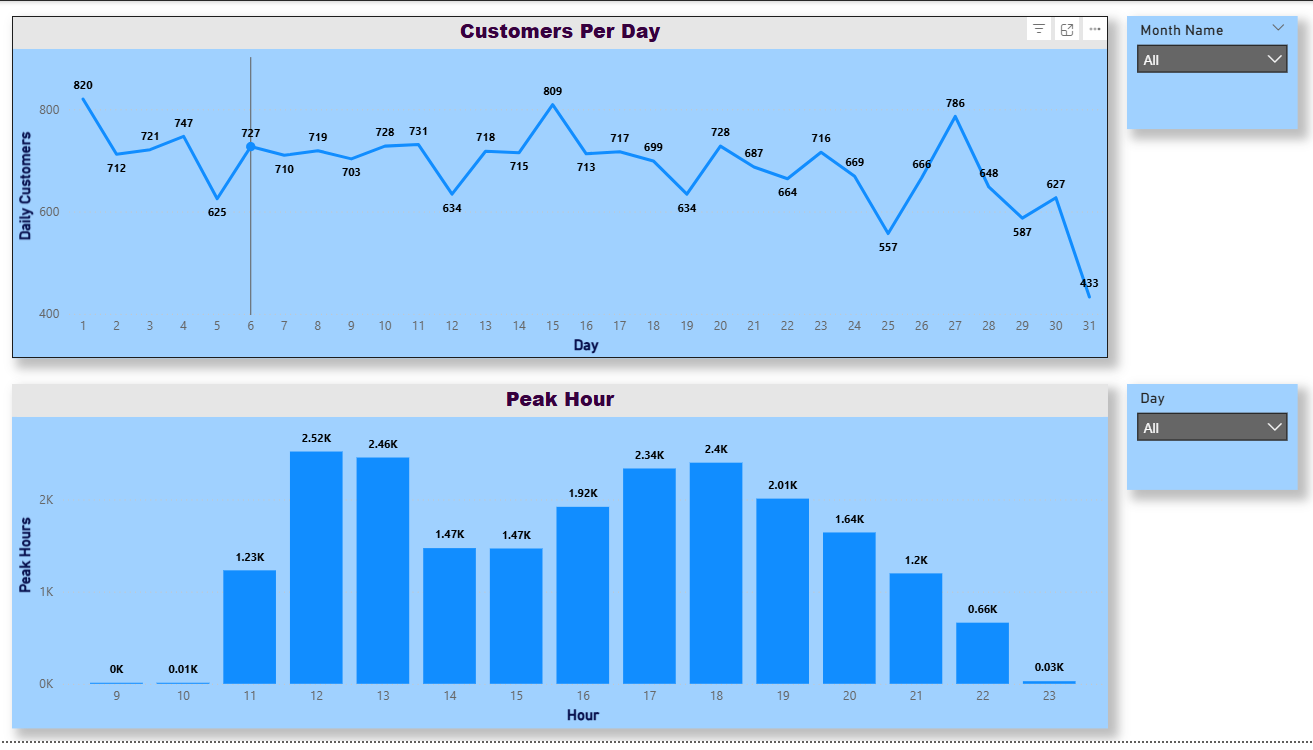

What the dashboard file says about the page in this screenshot:
{"tool":"powerbi","page":{"name":"Peak Hour /  Customers Per Day","canvas":[1280,720],"ordinal":0},"visuals":[{"type":"lineChart","title":"Customers Per Day","fields":{"Category":["Orders.date.Variation.Date Hierarchy.Day"],"Y":["CountNonNull(Orders.order_id)"]},"box":[14.6,14.6,1066,332.6],"z":0},{"type":"columnChart","title":"Peak Hour","fields":{"Category":["Orders.Hour"],"Y":["CountNonNull(Orders.order_id)"]},"box":[14.6,372.5,1066,334.6],"z":1000},{"type":"slicer","fields":{"Values":["Orders.Month Name"]},"box":[1099.1,14.6,166.3,109.9],"z":2000},{"type":"slicer","fields":{"Values":["Orders.Day"]},"box":[1099.1,372.5,166.3,103.1],"z":3000}]}

Visuals, with their boxes in screenshot pixels (x1, y1, x2, y2), scaled from the page's 1280x720 canvas onto the 1313x750 screenshot:
"Customers Per Day" lineChart: [15, 15, 1108, 362]
"Peak Hour" columnChart: [15, 388, 1108, 737]
slicer - Orders.Month Name: [1127, 15, 1298, 130]
slicer - Orders.Day: [1127, 388, 1298, 495]
